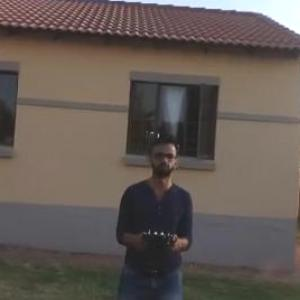follow: (110, 127, 198, 299)
